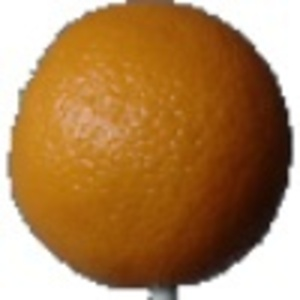laranja: (6, 3, 298, 290)
